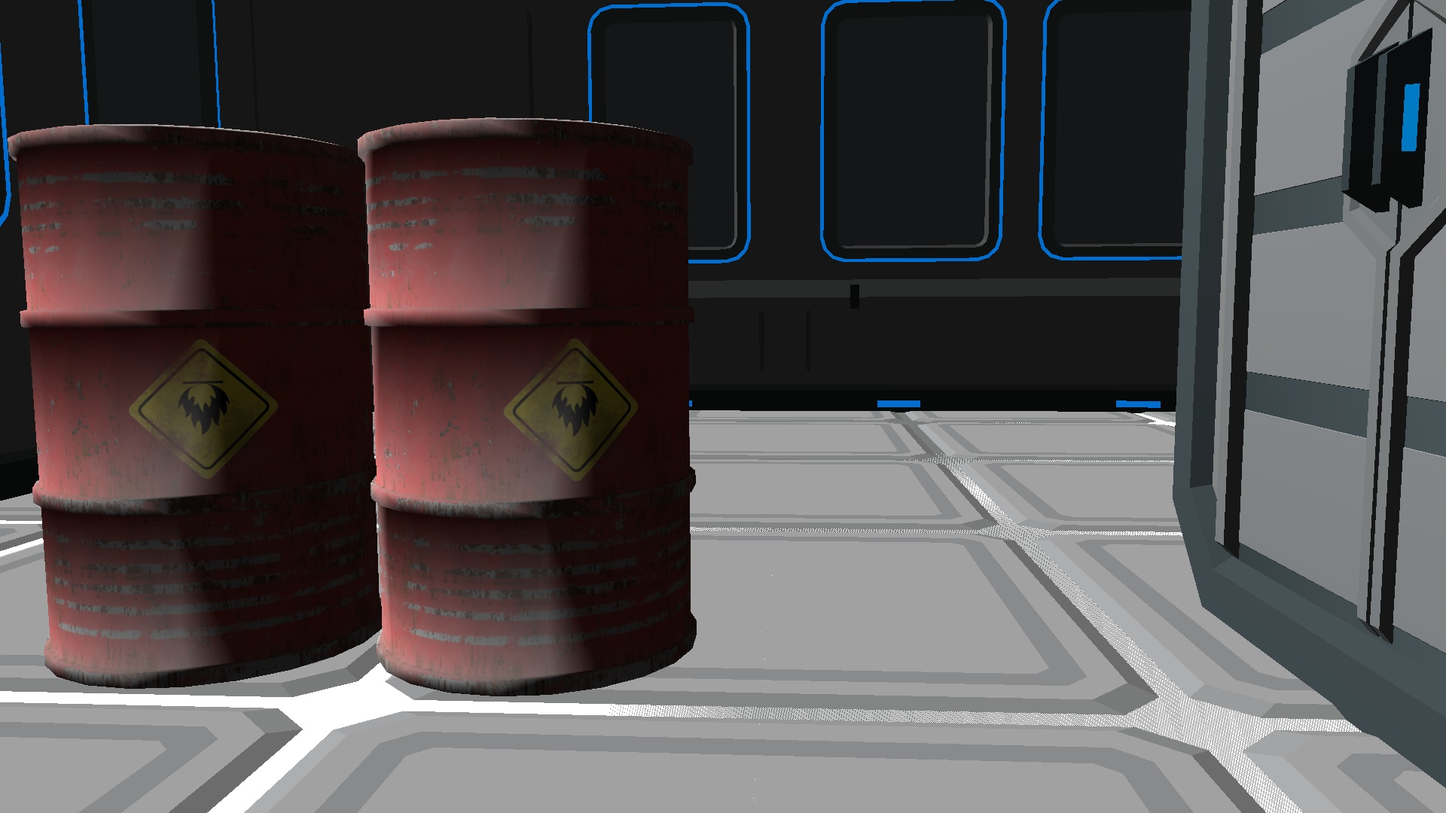toxic barrel: (7, 123, 382, 688), (356, 118, 698, 696)
